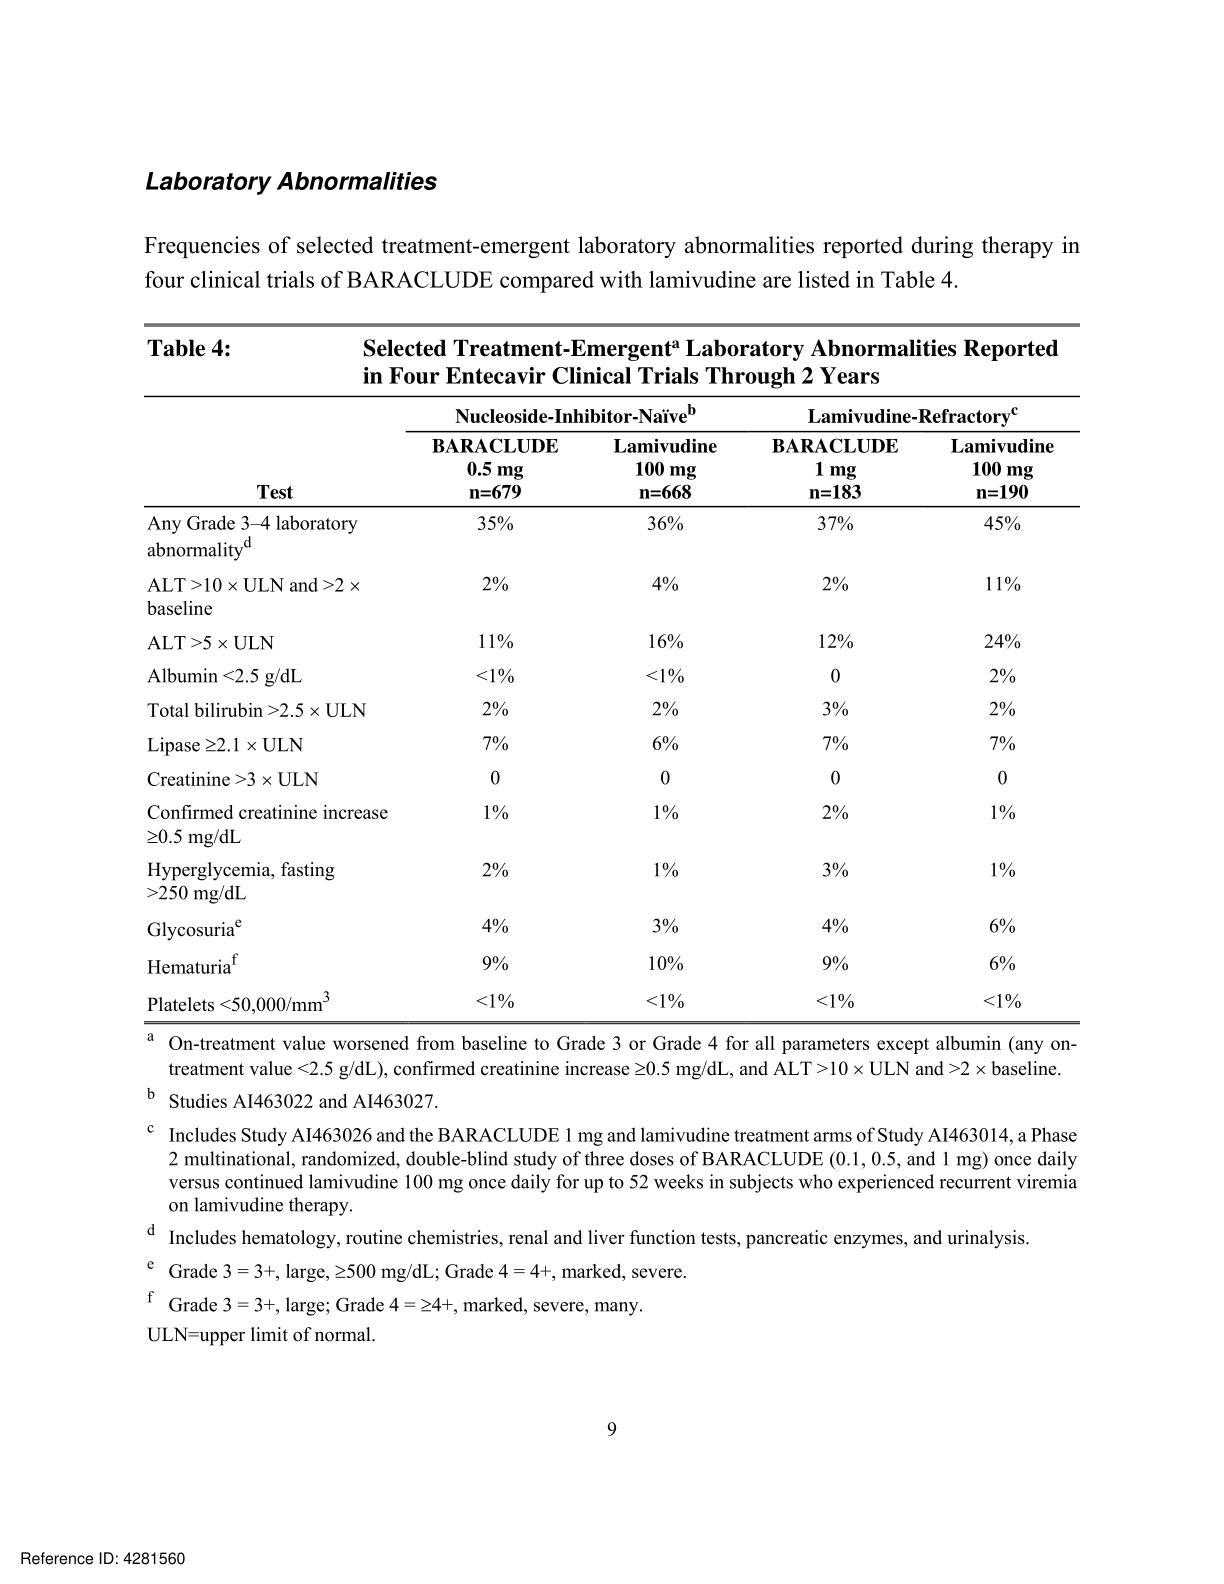partial_lined_merged_cells: (141, 321, 1081, 1025)
